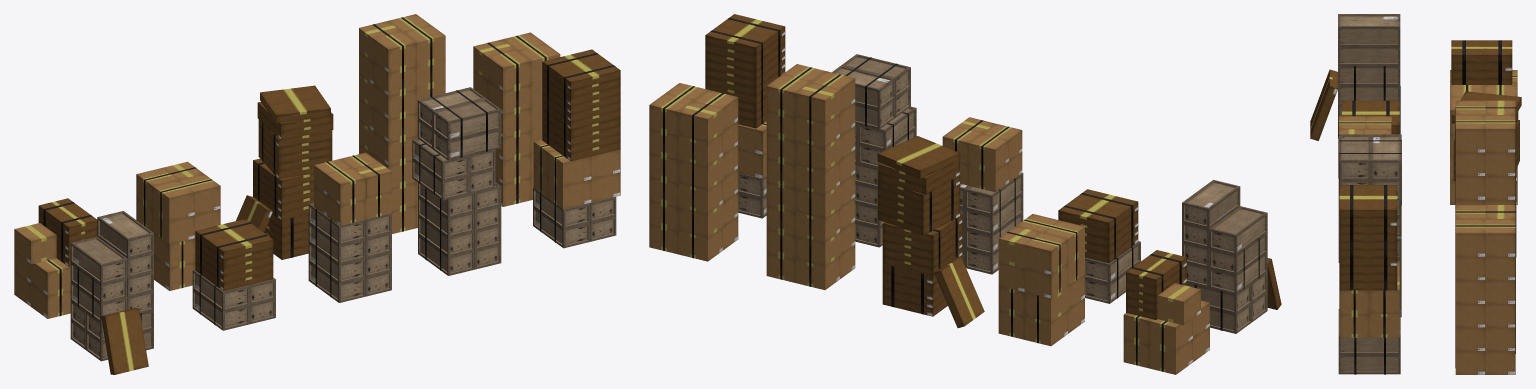
Rendered from Crates.dae.
3 renders of one model, left to right at view 1: azimuth 30°, elevation 25°; view 2: azimuth 150°, elevation 25°; view 3: azimuth 270°, elevation 25°, orthographic. The views are drawn at different scales.
Parts seen in each view (by area): view 1: polySurface244; view 2: polySurface244; view 3: polySurface244.
Boxes of the visible parts, x1=… form: polySurface244: x1=14, y1=14, x2=620, y2=374; polySurface244: x1=649, y1=14, x2=1281, y2=374; polySurface244: x1=1310, y1=14, x2=1521, y2=374.
Size of the model in its own units: 2096 by 721 by 735.
Materials: 1 (1 with a texture image).
